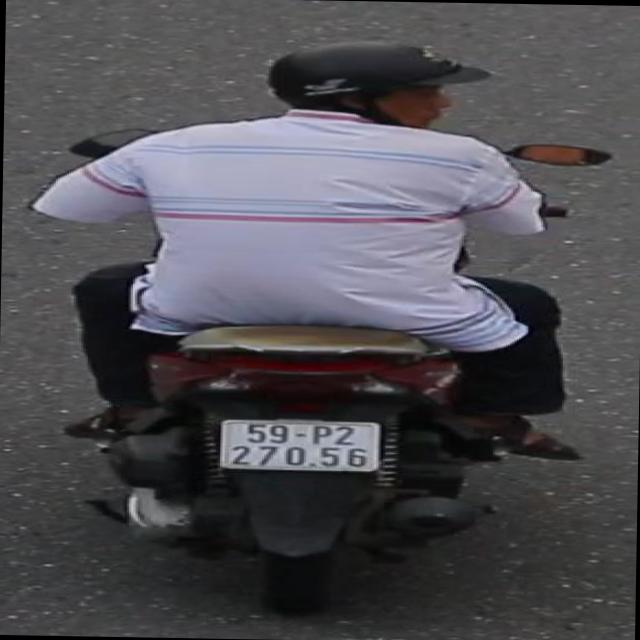LP: (211, 411, 390, 476)
helmet: (262, 35, 466, 126)
